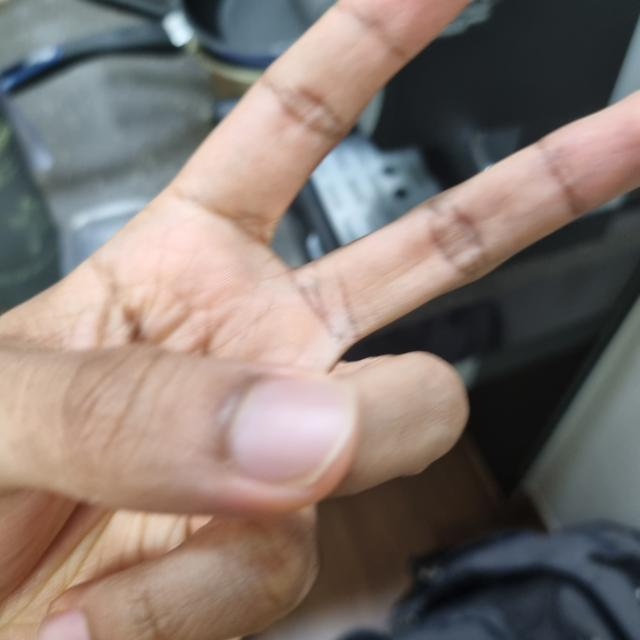Scissors: (0, 1, 639, 639)
